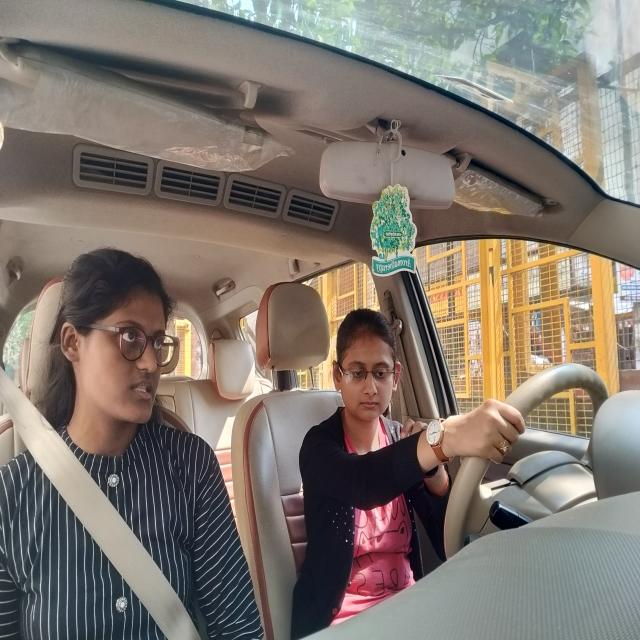person: (42, 240, 191, 480), (326, 303, 407, 447)
